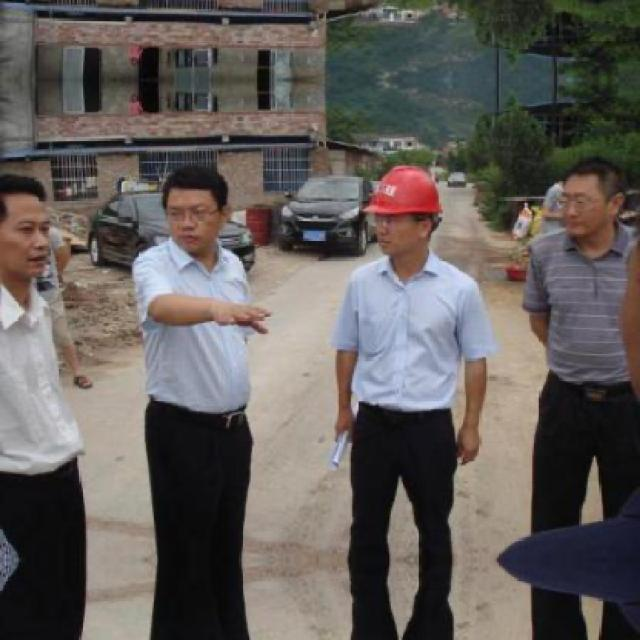con casco: (317, 147, 472, 305)
sin casco: (152, 174, 288, 311), (0, 164, 88, 303), (530, 156, 638, 262)
